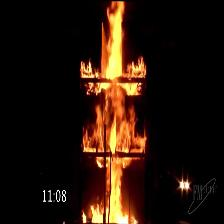fire: (95, 4, 129, 224)
